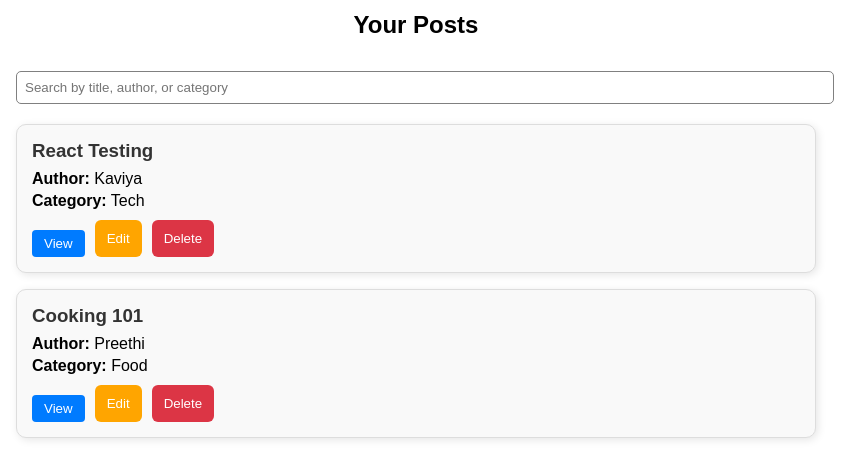
Test case: deletes a post and updates UI after confirmation
This screenshot has width=851, height=458.
Expected: the heading "React Testing" is shown, [32,140,153,161]
Click the button "Delete" below "Tech": x=183, y=238 [152,220,214,257]
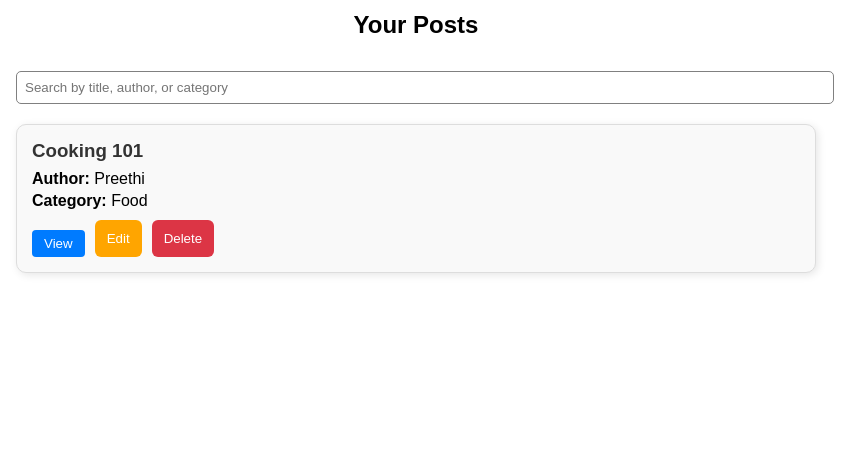
Result: the heading "React Testing" is gone
